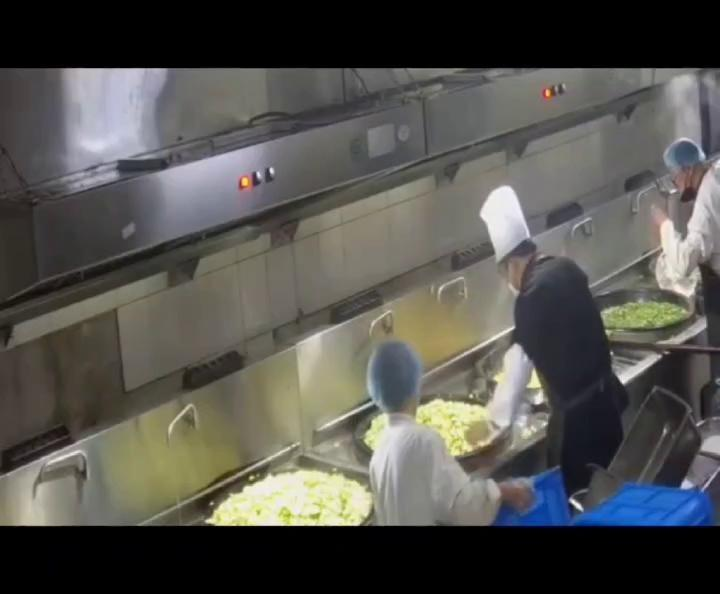mask: (670, 174, 701, 202)
